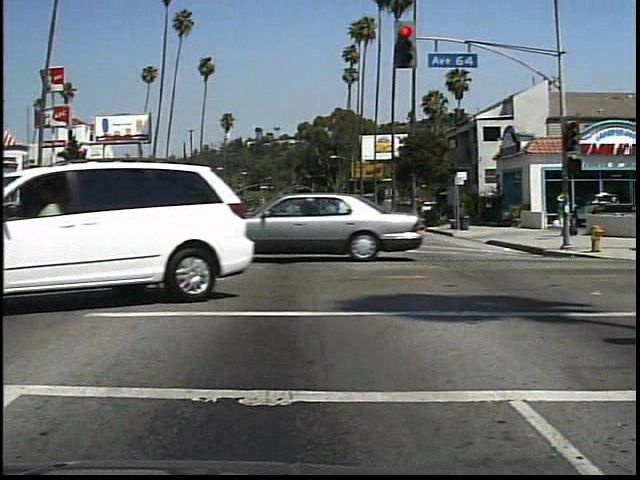person: (551, 189, 577, 233)
